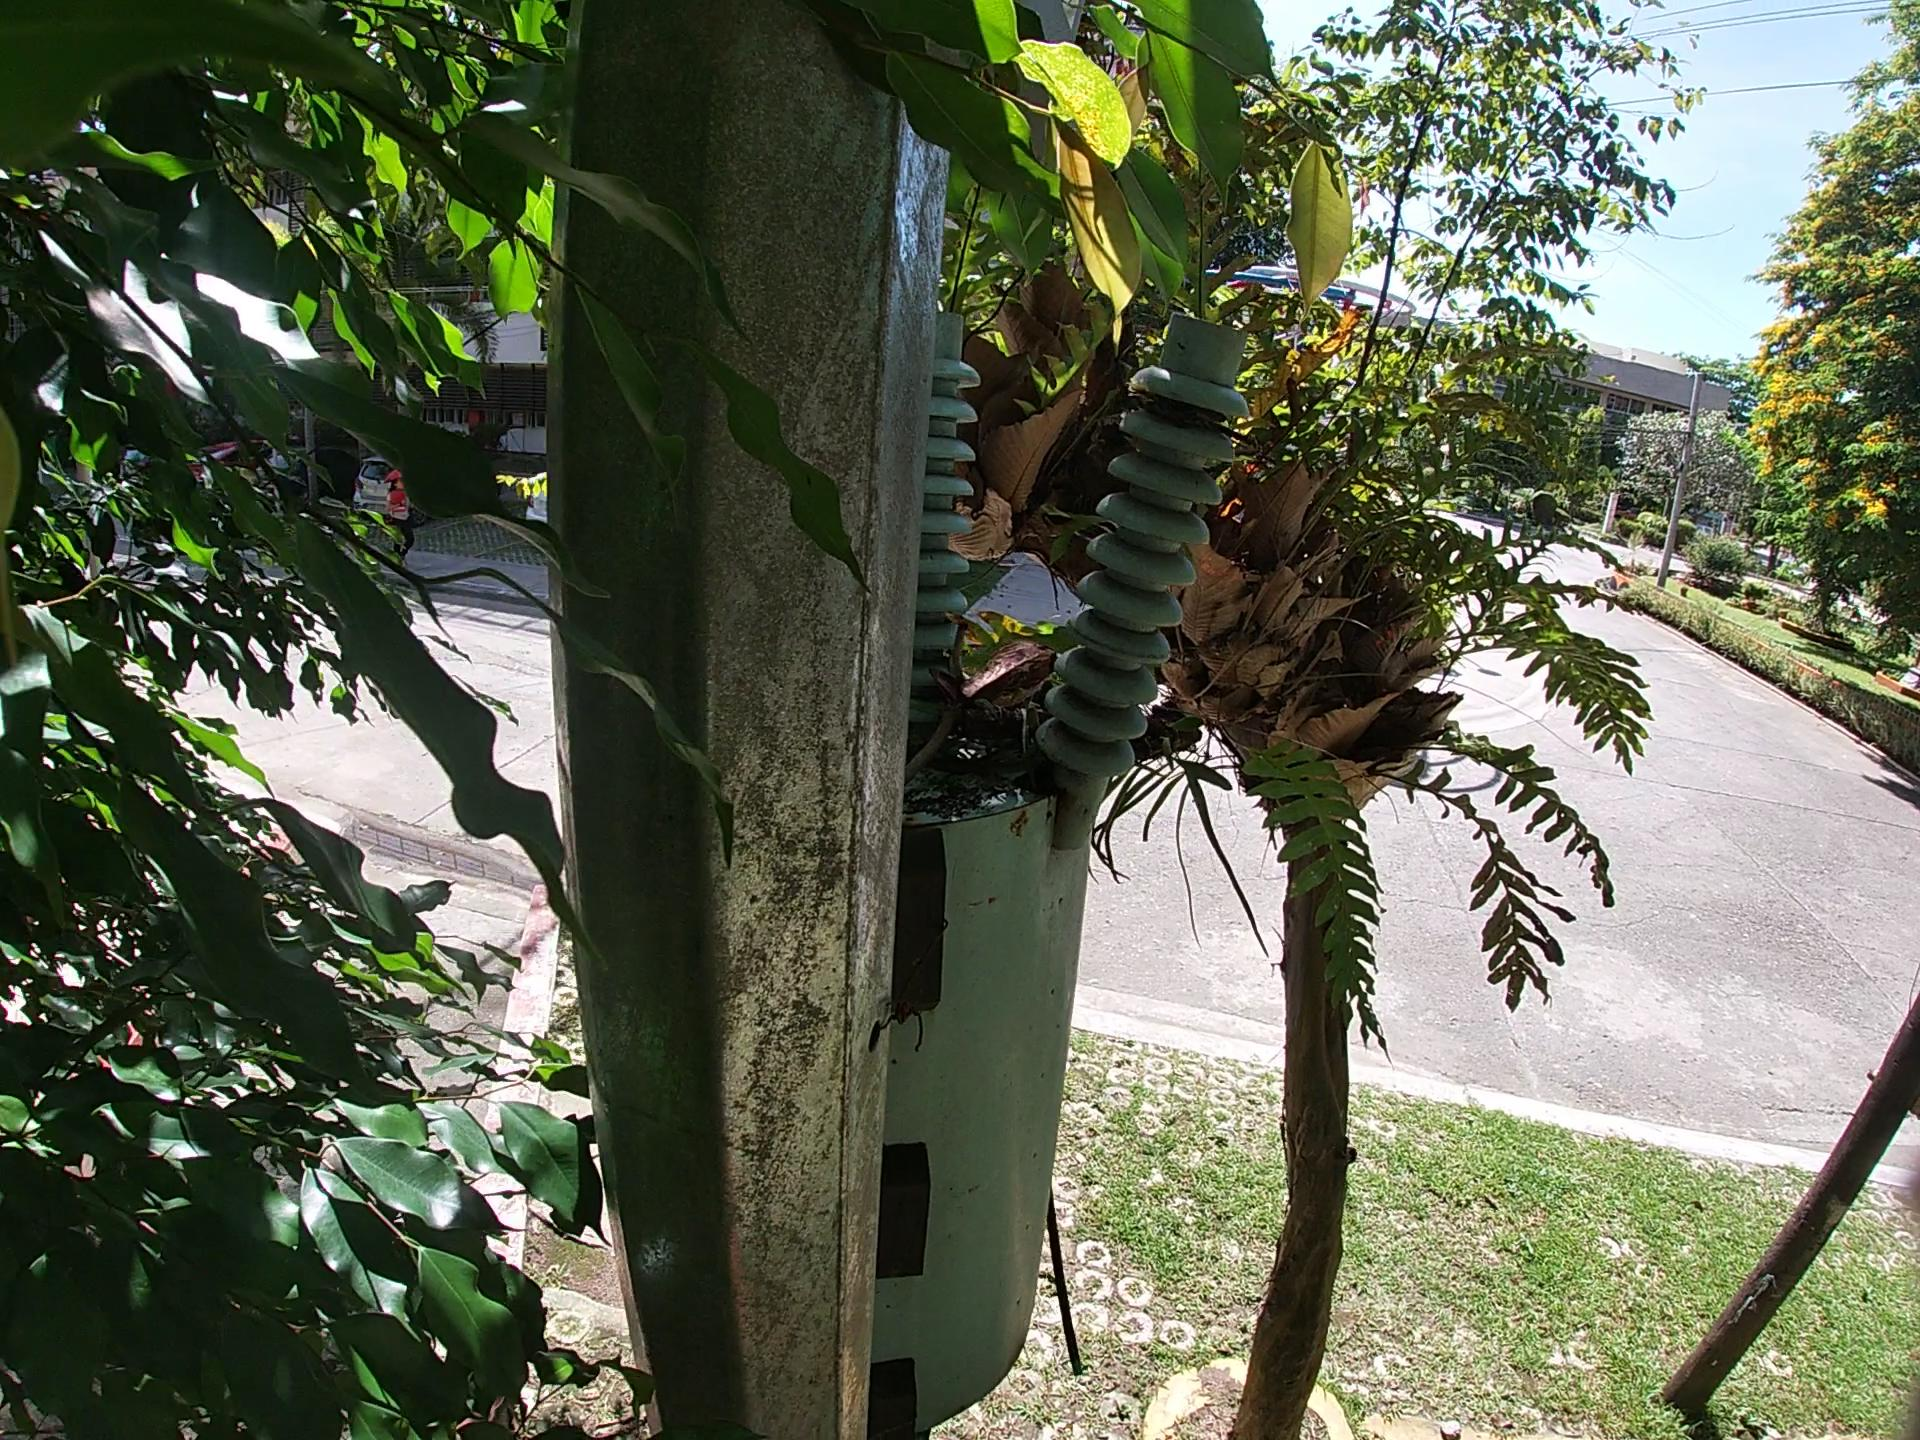branch with leaves: (919, 433, 1160, 892)
mahogany fruit: (878, 555, 1058, 746)
tree branch: (906, 563, 1005, 791)
